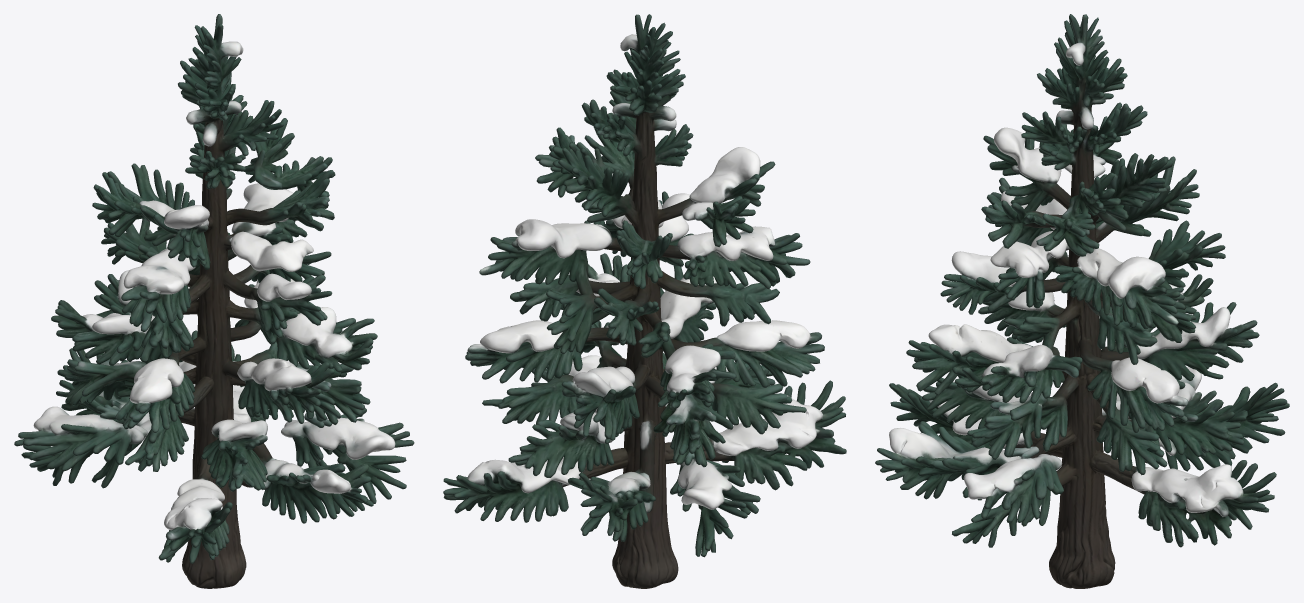
Rendered from model_meshopt.glb.
3 views of the same model, side by side, from view 1: azimuth 30°, elevation 25°; view 2: azimuth 150°, elevation 25°; view 3: azimuth 270°, elevation 25° (orthographic).
Parts seen in each view (by area): view 1: tripo_node_c7cf8c5b-abc0-4898-95b6-a58b4622f191; view 2: tripo_node_c7cf8c5b-abc0-4898-95b6-a58b4622f191; view 3: tripo_node_c7cf8c5b-abc0-4898-95b6-a58b4622f191.
Boxes of the visible parts, x1,y1,x2,y2 form: tripo_node_c7cf8c5b-abc0-4898-95b6-a58b4622f191: [14, 14, 414, 588]; tripo_node_c7cf8c5b-abc0-4898-95b6-a58b4622f191: [443, 14, 846, 588]; tripo_node_c7cf8c5b-abc0-4898-95b6-a58b4622f191: [875, 14, 1289, 588].
Bounding box in the file's own units: 0.5505 × 0.9778 × 0.6431.
Materials: 1 (1 with a texture image).
